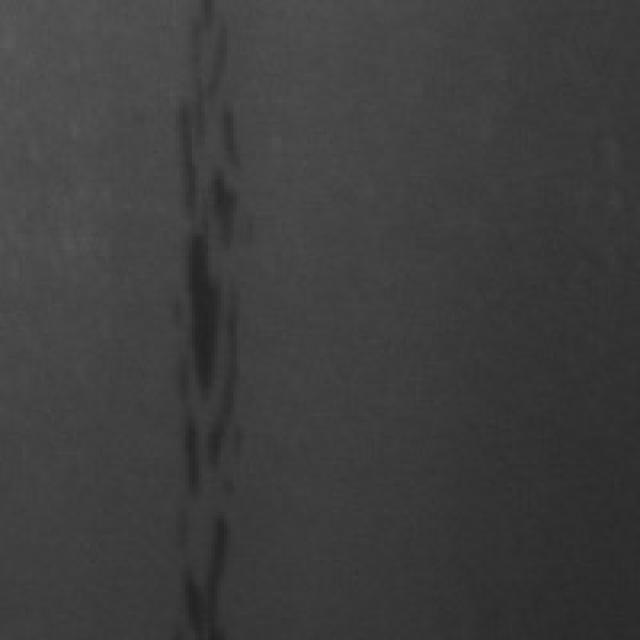inclusion: (160, 0, 253, 560), (160, 490, 234, 627)
